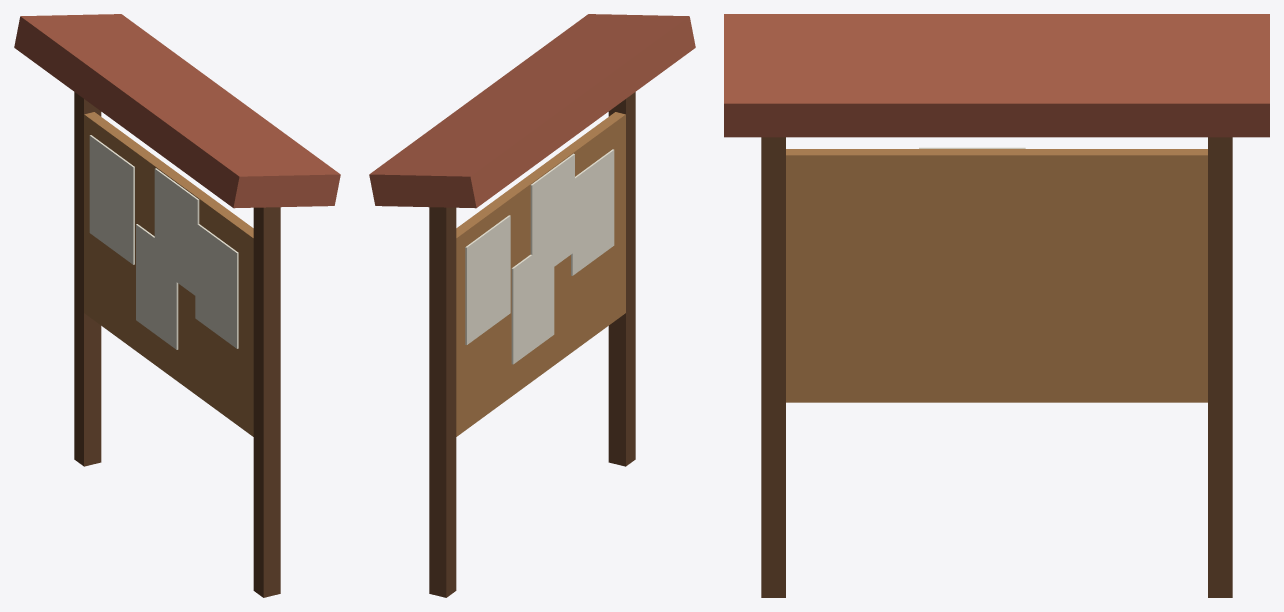
File: SM_CommissionBoard.fbx
3 views of the same model, side by side, from view 1: azimuth 30°, elevation 25°; view 2: azimuth 150°, elevation 25°; view 3: azimuth 270°, elevation 25° (orthographic). The views are drawn at different scales.
Visible parts, largest first — view 1: Roof, Cork, Post_Right.002, Post_Left.002, Note_3, Note_4, Note_1, Note_2; view 2: Roof, Cork, Post_Left.002, Post_Right.002, Note_3, Note_2, Note_1, Note_4; view 3: Cork, Roof, Post_Left.002, Post_Right.002.
Boxes of the visible parts, x1,y1,x2,y2 form: Roof: (14,14,340,208); Cork: (84,112,253,436); Post_Right.002: (253,207,280,597); Post_Left.002: (74,92,101,466); Note_3: (89,135,134,264); Note_4: (154,168,199,297); Note_1: (195,223,238,348); Note_2: (136,224,178,349); Roof: (369,14,695,208); Cork: (456,112,625,436); Post_Left.002: (429,207,456,597); Post_Right.002: (608,92,635,466); Note_3: (465,215,510,344); Note_2: (511,239,554,364); Note_1: (571,149,614,275); Note_4: (530,153,574,281); Cork: (786,149,1207,402); Roof: (724,14,1269,137); Post_Left.002: (1208,137,1232,597); Post_Right.002: (761,137,785,597).
Bounding box in the file's own units: 0.6222 × 2.45 × 2.2.
